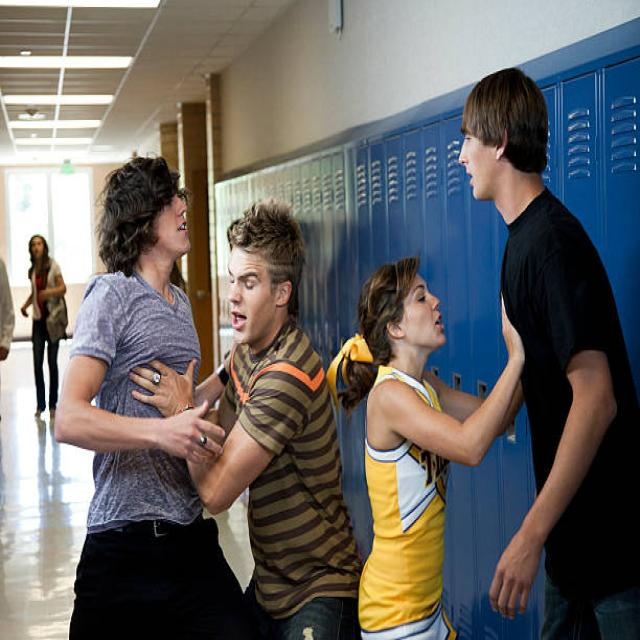fight: (340, 64, 617, 640), (58, 160, 339, 640)
